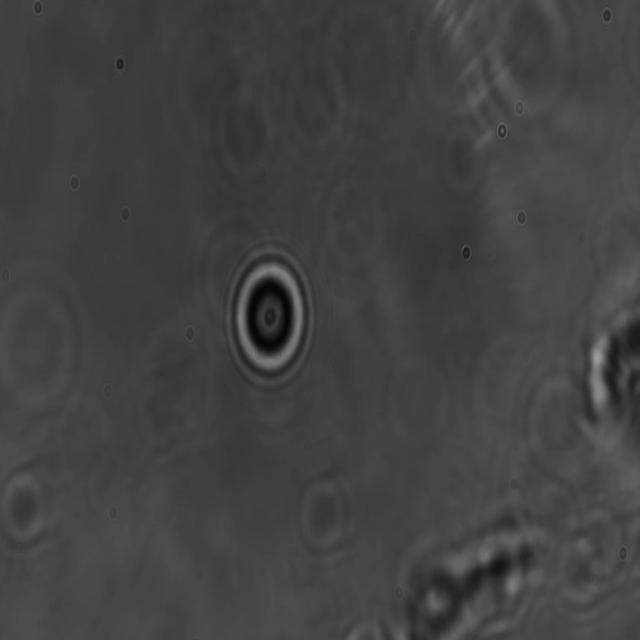LCELL: (221, 240, 316, 393)
